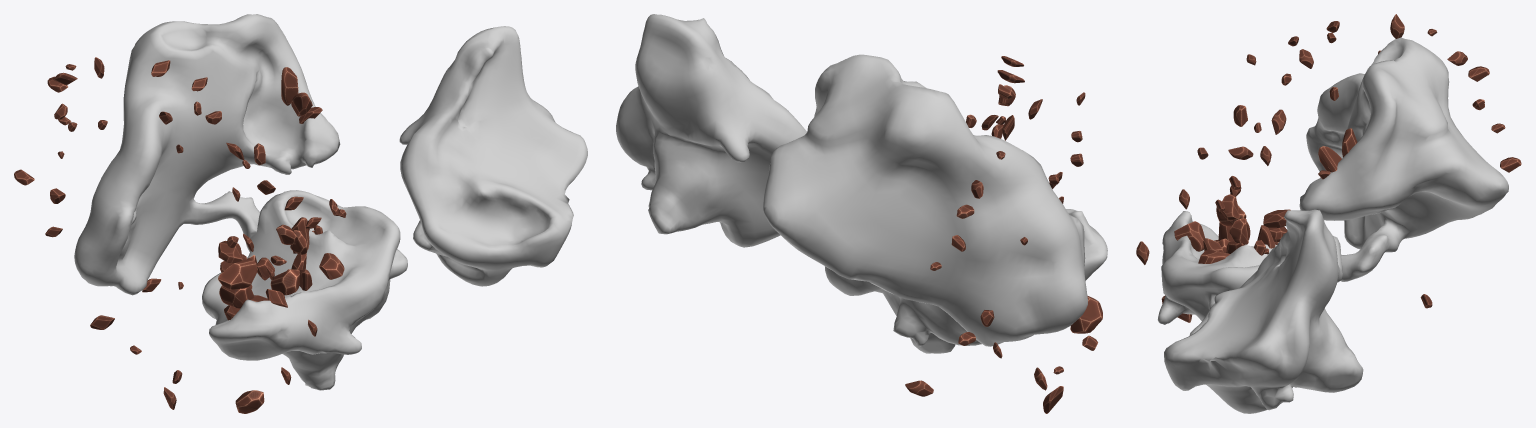
File: Test Loc.fbx
3 views of the same model, side by side, from view 1: azimuth 30°, elevation 25°; view 2: azimuth 150°, elevation 25°; view 3: azimuth 270°, elevation 25° (orthographic). The views are drawn at different scales.
Visible parts, largest first — view 1: Volume4_copy001, Volume4_copy001.001, Volume19.005, Volume19.007, Volume19, Volume19.049, Volume19.062; view 2: Volume4_copy001, Volume4_copy001.001, Volume19.049; view 3: Volume4_copy001, Volume4_copy001.001, Volume19.059, Volume19.061, Volume19.021, Volume19.019, Volume19.003.
Boxes of the visible parts, <box> form: Volume4_copy001: <box>74,14,407,390</box>; Volume4_copy001.001: <box>399,26,587,286</box>; Volume19.005: <box>218,258,257,289</box>; Volume19.007: <box>270,269,299,295</box>; Volume19: <box>219,285,254,308</box>; Volume19.049: <box>235,390,264,413</box>; Volume19.062: <box>281,67,298,105</box>; Volume4_copy001: <box>763,54,1107,353</box>; Volume4_copy001.001: <box>616,14,806,247</box>; Volume19.049: <box>1070,295,1102,333</box>; Volume4_copy001: <box>1157,37,1508,324</box>; Volume4_copy001.001: <box>1164,209,1363,413</box>; Volume19.059: <box>1174,221,1204,251</box>; Volume19.061: <box>1318,146,1341,172</box>; Volume19.021: <box>1229,218,1248,244</box>; Volume19.019: <box>1221,194,1239,220</box>; Volume19.003: <box>1263,209,1290,227</box>.
Size of the model in its own units: 4907 by 3351 by 3566.
